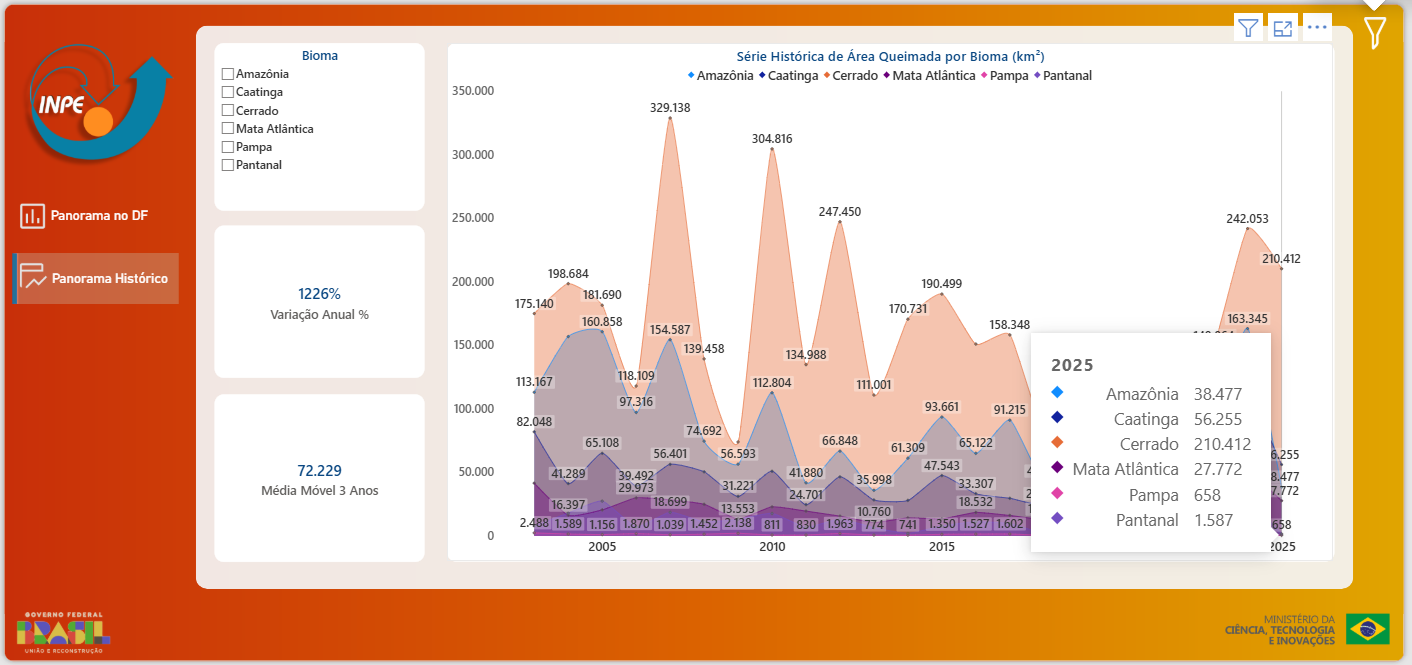

Layout of this report page (visuals, bound fields, positions):
{"tool":"powerbi","page":{"name":"Panorama Histórico por Bioma","canvas":[4500,2130],"ordinal":1},"visuals":[{"type":"image","title":"Orange Background","box":[24.4,20.3,4444.7,2086.1],"z":0},{"type":"shape","title":"Fundo Branco","box":[630.3,85.4,3676.1,1789.3],"z":1000},{"type":"image","title":"Ícone","box":[57.1,621.9,115,139],"z":1000,"group":"g2"},{"type":"image","title":"Ícone","box":[57.9,822.2,108.8,120.1],"z":1000,"group":"g1"},{"type":"actionButton","title":"Texto","box":[170.2,610.7,406,160.2],"z":1500,"group":"g2"},{"type":"actionButton","title":"Texto","box":[170.8,810.9,406,160.2],"z":1500,"group":"g1"},{"type":"image","title":"Logo MCTI","box":[3851,1911.3,618.1,191.1],"z":2000},{"type":"image","title":"Filtro","box":[4310,55,131.4,112.6],"z":3000},{"type":"lineChart","title":"Série Histórica de Área Queimada por Bioma (km²)","fields":{"Category":["fAreaQueimadaBioma.Ano"],"Series":["fAreaQueimadaBioma.Bioma"],"Y":["fAreaQueimadaBioma.Soma Área Queimada"]},"box":[1427.3,142.3,2818.1,1646.9],"z":5000},{"type":"group","id":"g1","title":"Botão Panorama Histórico","box":[57.9,810.9,519,160.2],"z":6000},{"type":"group","id":"g2","title":"Botão Panorama no DF","box":[57.1,610.7,519.1,161.3],"z":7000},{"type":"shape","title":"Barrinha azul","box":[45,804,25,171],"z":8000},{"type":"slicer","title":"Bioma","fields":{"Values":["dBioma.dBioma"]},"box":[691.3,142.3,666.9,532.7],"z":9000},{"type":"card","title":"Cartão Total","fields":{"Values":["fAreaQueimadaBioma.Variação Anual %"]},"box":[691.3,723.8,666.9,483.9],"z":10000},{"type":"card","title":"Cartão Total","fields":{"Values":["fAreaQueimadaBioma.Média Móvel 3 Anos"]},"box":[691.3,1256.6,666.9,532.7],"z":11000},{"type":"image","title":"Logo GOV","box":[67.9,85.7,500,496.4],"z":12000},{"type":"image","title":"Logo Inpe","box":[40,1912,344,208],"z":13000}]}

Visuals, with their boxes in screenshot pixels (x1, y1, x2, y2), scaled from the page's 4500x2130 canvas onto the 1412x665 screenshot:
"Orange Background" image: 8, 6, 1402, 658
"Fundo Branco" shape: 198, 27, 1351, 585
"Ícone" image: 18, 194, 54, 238
"Ícone" image: 18, 257, 52, 294
"Texto" actionButton: 53, 191, 181, 241
"Texto" actionButton: 54, 253, 181, 303
"Logo MCTI" image: 1208, 597, 1402, 656
"Filtro" image: 1352, 17, 1394, 52
"Série Histórica de Área Queimada por Bioma (km²)" lineChart: 448, 44, 1332, 559
"Botão Panorama Histórico" group: 18, 253, 181, 303
"Botão Panorama no DF" group: 18, 191, 181, 241
"Barrinha azul" shape: 14, 251, 22, 304
"Bioma" slicer: 217, 44, 426, 211
"Cartão Total" card: 217, 226, 426, 377
"Cartão Total" card: 217, 392, 426, 559
"Logo GOV" image: 21, 27, 178, 182
"Logo Inpe" image: 13, 597, 120, 662
